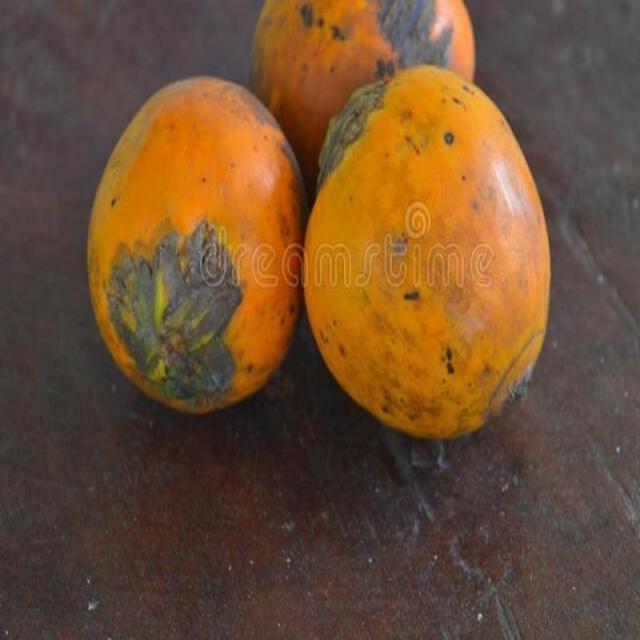good: (301, 65, 550, 443), (86, 77, 311, 419), (248, 0, 475, 195)
